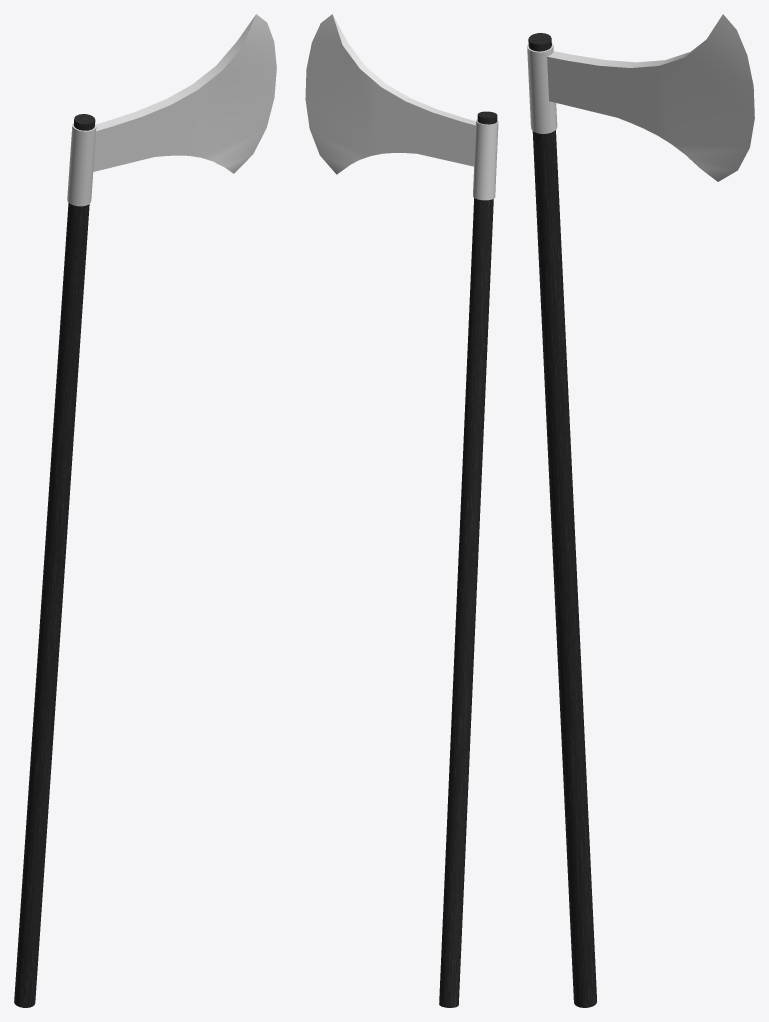
Rendered from axeSmall.fbx.
The picture shows the model from 3 angles, left to right: view 1: azimuth 30°, elevation 25°; view 2: azimuth 150°, elevation 25°; view 3: azimuth 330°, elevation 25°; orthographic projection. The views are drawn at different scales.
Visible parts, largest first — view 1: spear shaft 004; view 2: spear shaft 004; view 3: spear shaft 004.
Part boxes in pixels (x1,y1,x2,y2): spear shaft 004: (14, 14, 276, 1007); spear shaft 004: (305, 14, 498, 1007); spear shaft 004: (527, 14, 754, 1007).
Bounding box in the file's own units: 26.13 × 13.19 × 116.
2 materials, 1 textured.
